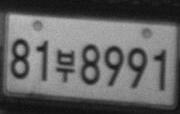1: (151, 49, 173, 90), (33, 39, 53, 81)
8: (9, 37, 30, 79), (79, 43, 100, 85)
9: (126, 46, 148, 89), (102, 45, 124, 86)
부: (54, 48, 75, 83)
